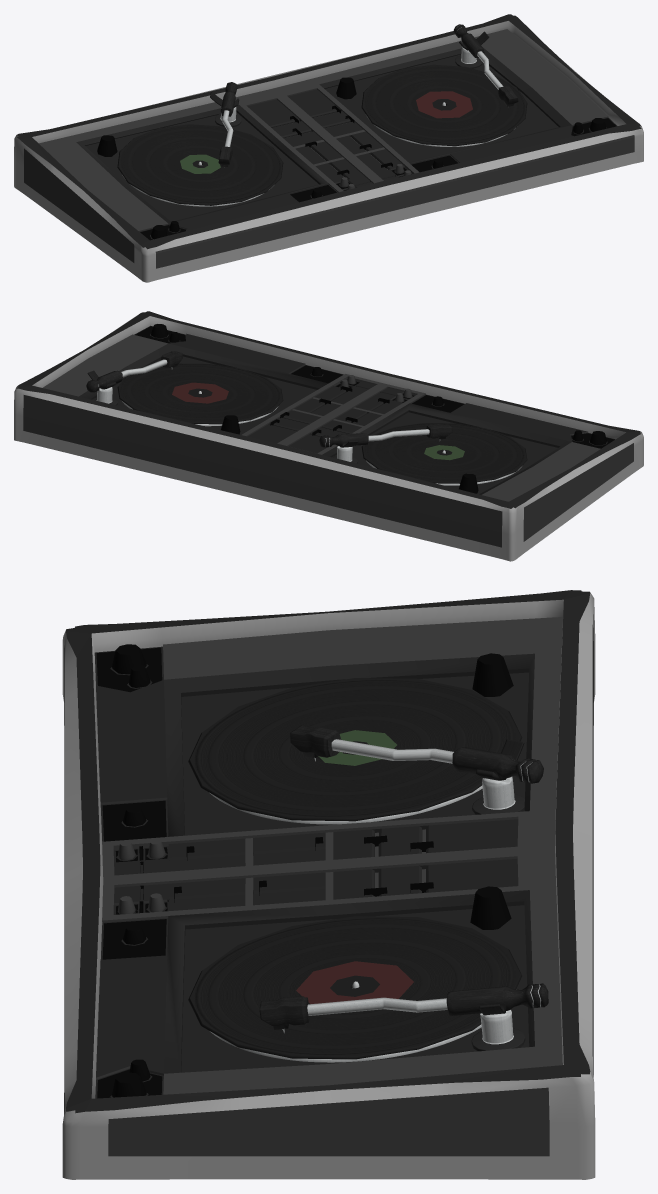
Rendered from disk_holder.glb.
3 renders of one model, top to bottom at view 1: azimuth 30°, elevation 25°; view 2: azimuth 150°, elevation 25°; view 3: azimuth 270°, elevation 25°, orthographic. The views are drawn at different scales.
Visible parts, largest first — view 1: DiskHolder; view 2: DiskHolder; view 3: DiskHolder.
Part boxes in pixels (x1,y1,x2,y2): DiskHolder: [14, 14, 643, 282]; DiskHolder: [14, 311, 643, 561]; DiskHolder: [62, 590, 595, 1179].
Bounding box in the file's own units: 1.42 × 0.1769 × 0.6564.
Materials: 10 (3 with a texture image).
